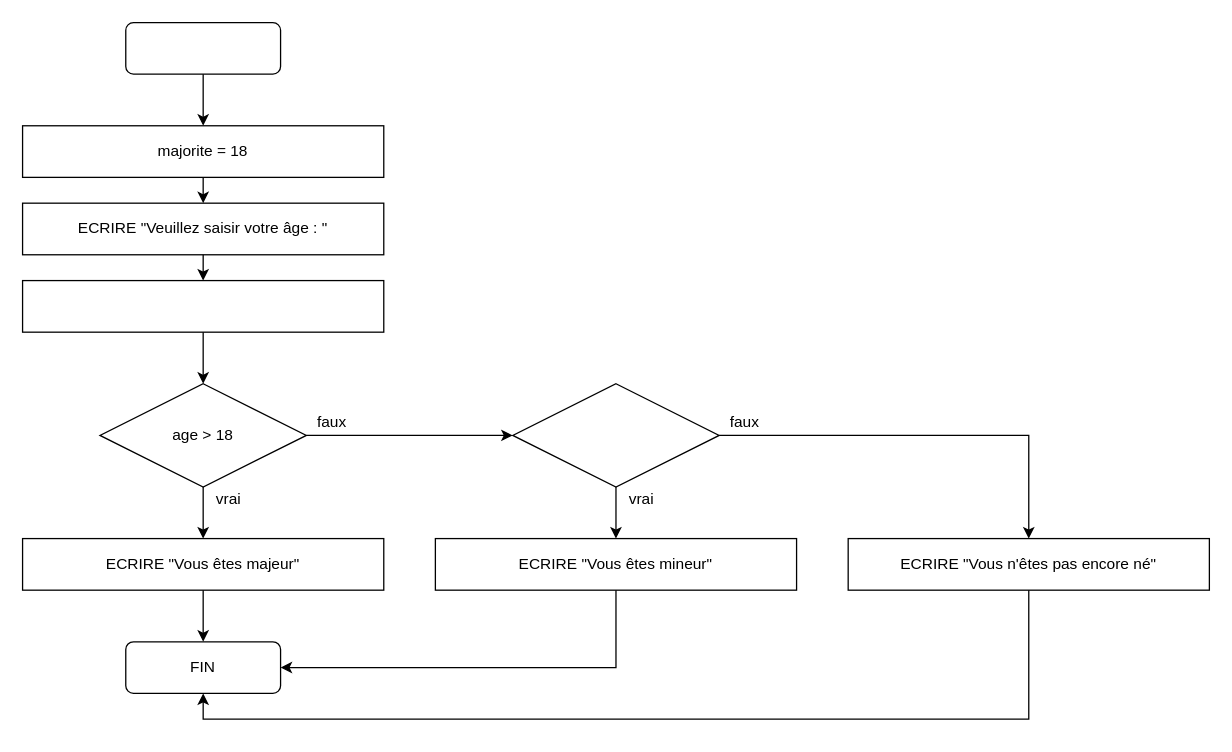
The diagram is 1232 pixels wide and 752 high, and some of its shapes have lost their labels. The shapes that lost their labels are listed below. From the top down, each one's centre as x and y in pixels, then its label:
At point (202, 47): "DEBUT".
At point (202, 305): "LIRE age".
At point (615, 434): "age >0".
